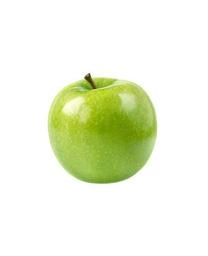apple: (47, 72, 158, 183)
